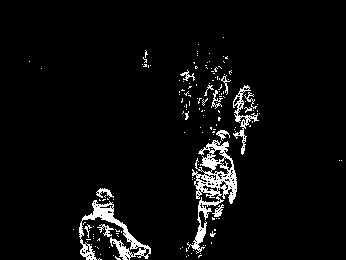person: (184, 129, 240, 251), (75, 187, 152, 260), (230, 84, 259, 155)
